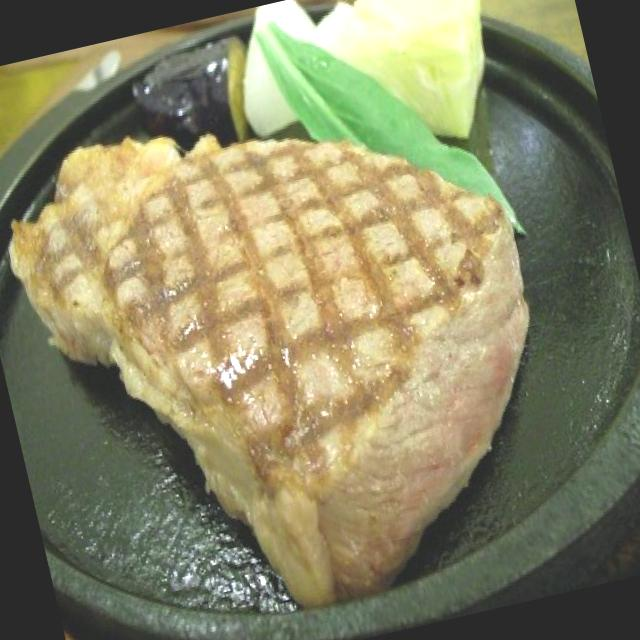Beef Steak: (0, 78, 581, 640)
